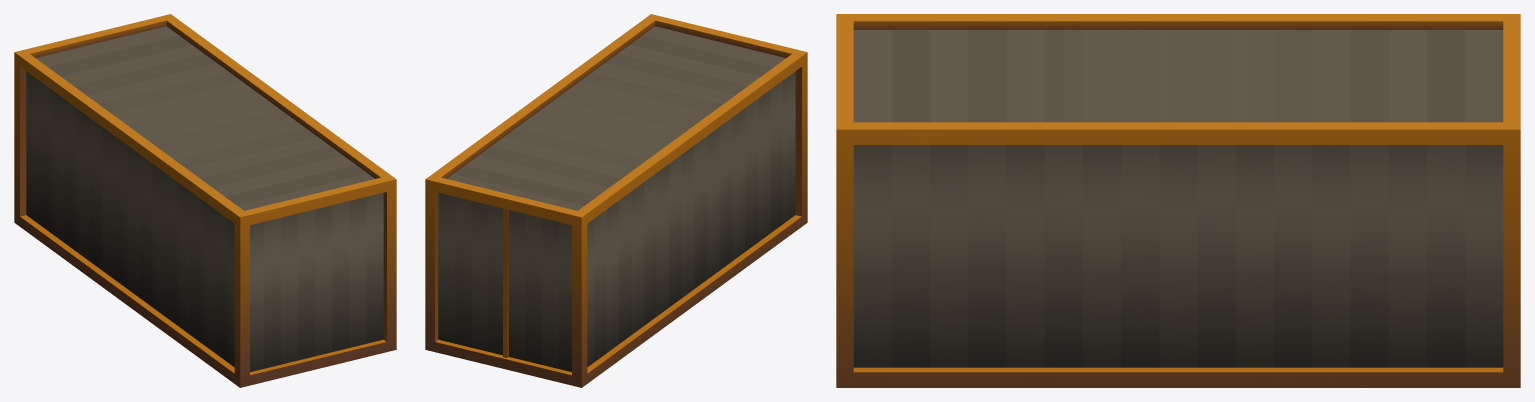
The model's file is Container_1I.fbx.
The picture shows the model from 3 angles, left to right: view 1: azimuth 30°, elevation 25°; view 2: azimuth 150°, elevation 25°; view 3: azimuth 270°, elevation 25°; orthographic projection. The views are drawn at different scales.
Visible parts, largest first — view 1: Container_1I; view 2: Container_1I; view 3: Container_1I.
Part boxes in pixels (box(x1,y1,x2,y2)): Container_1I: box(14, 14, 396, 387); Container_1I: box(425, 14, 807, 387); Container_1I: box(836, 14, 1520, 387).
Size of the model in its own units: 2.4 by 2.5 by 6.
